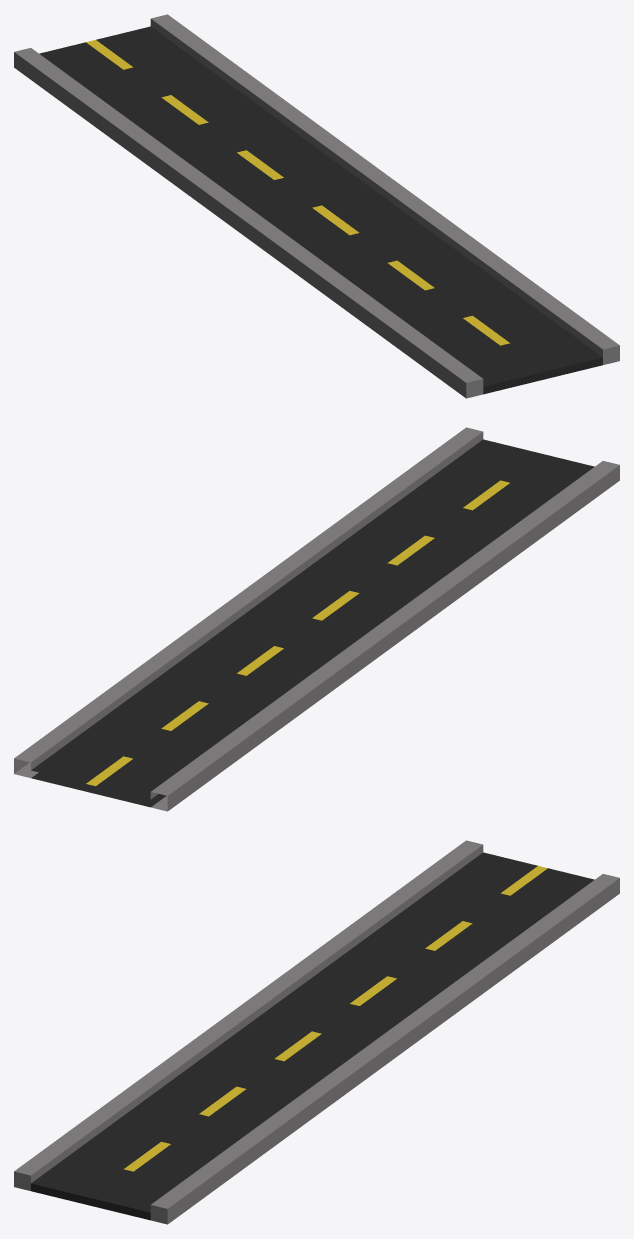
Rendered from car_way.fbx.
The picture shows the model from 3 angles, top to bottom: view 1: azimuth 30°, elevation 25°; view 2: azimuth 150°, elevation 25°; view 3: azimuth 330°, elevation 25°; orthographic projection.
Visible parts, largest first — view 1: Cube; view 2: Cube; view 3: Cube.
Boxes of the visible parts, bbox=[...] form: Cube: bbox=[14, 14, 619, 398]; Cube: bbox=[14, 427, 619, 811]; Cube: bbox=[14, 840, 619, 1224].
Size of the model in its own units: 545 by 53.06 by 2779.
